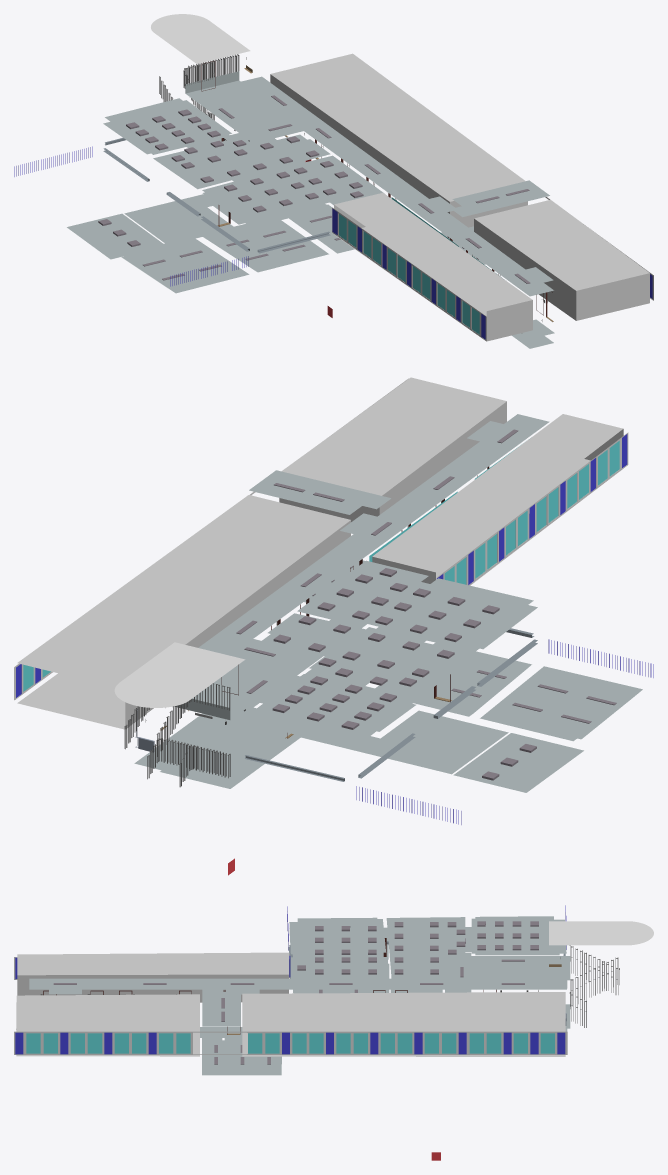
3 renders of one model, top to bottom at view 1: azimuth 30°, elevation 25°; view 2: azimuth 150°, elevation 25°; view 3: azimuth 270°, elevation 25°, orthographic. The views are drawn at different scales.
Visible parts, largest first — view 1: stena039.961, stena039.363, stena039.962, stena039.326, stena039.107, stena039.963, stena039.007, stena039.104, stena039.329, stena039.330, stena039.789, stena039.682 (+6 smaller); view 2: stena039.961, stena039.363, stena039.326, stena039.962, stena039.107, stena039.963, stena039.104, stena039.007, stena039.329, stena039.789, stena039.330, stena039.682 (+7 smaller); view 3: stena039.961, stena039.092, stena039.363, stena039.326, stena039.963, stena039.962, stena039.329, stena039.378, stena039.330, stena039.789, stena039.682, stena039.104 (+4 smaller).
Boxes of the visible parts, <box> form: stena039.961: <box>270,53,527,227</box>; stena039.363: <box>103,98,384,225</box>; stena039.962: <box>474,199,649,320</box>; stena039.326: <box>185,71,553,296</box>; stena039.107: <box>67,204,354,293</box>; stena039.963: <box>334,193,532,341</box>; stena039.007: <box>332,207,486,341</box>; stena039.104: <box>124,133,554,348</box>; stena039.329: <box>151,14,250,63</box>; stena039.330: <box>451,180,549,217</box>; stena039.789: <box>159,54,239,120</box>; stena039.682: <box>224,161,363,212</box>; stena039.961: <box>17,495,350,729</box>; stena039.363: <box>244,560,537,745</box>; stena039.326: <box>174,414,549,720</box>; stena039.962: <box>279,377,506,521</box>; stena039.107: <box>305,627,642,792</box>; stena039.963: <box>372,414,623,585</box>; stena039.104: <box>134,619,508,788</box>; stena039.007: <box>436,432,628,585</box>; stena039.329: <box>114,642,245,707</box>; stena039.789: <box>124,683,230,787</box>; stena039.330: <box>249,470,390,514</box>; stena039.682: <box>317,568,499,642</box>; stena039.961: <box>242,992,565,1056</box>; stena039.092: <box>14,1031,567,1054</box>; stena039.363: <box>289,916,566,978</box>; stena039.326: <box>29,956,570,994</box>; stena039.963: <box>17,952,289,1002</box>; stena039.962: <box>16,994,199,1056</box>; stena039.329: <box>549,921,653,945</box>; stena039.378: <box>202,1035,281,1075</box>; stena039.330: <box>202,987,240,1026</box>; stena039.789: <box>570,945,619,1027</box>; stena039.682: <box>297,926,376,974</box>; stena039.104: <box>200,952,570,1040</box>.
Size of the model in its own units: 2448 by 1549 by 4335.
